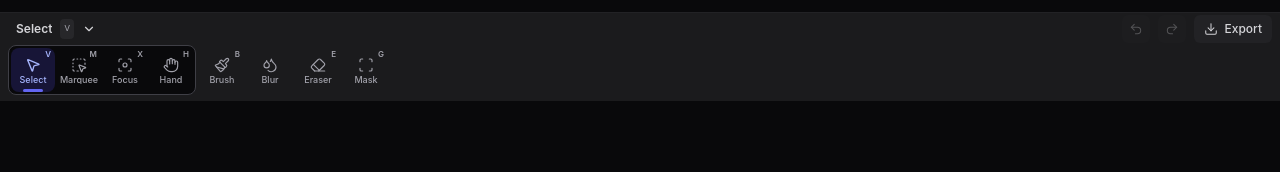
Test case: BottomToolbar › collapses and re-expands the tools via the header toggle
Expected: the 2nd button "Select V" is shown, 11,48 -> 55,92
Click the button with aria-label "Show or hide tools" at [56, 29], box 8,13 -> 104,45
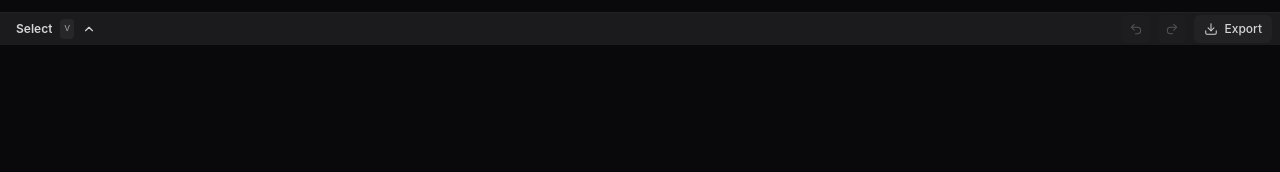
Expected: the button with aria-label "Show or hide tools" is collapsed
Expected: the button "Marquee" is gone
Click the button with aria-label "Show or hide tools" at [56, 29], box 8,13 -> 104,45
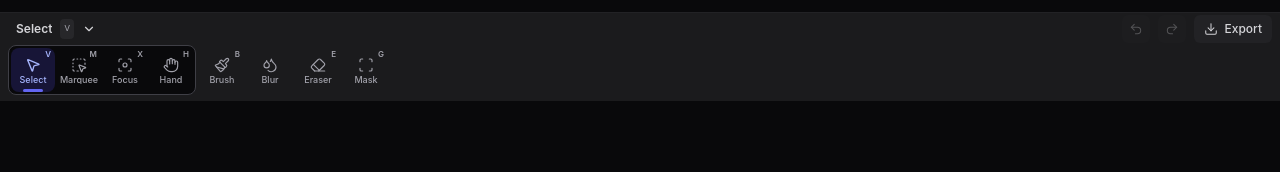
Expected: the 2nd button "Select V" is shown, 11,48 -> 55,92
